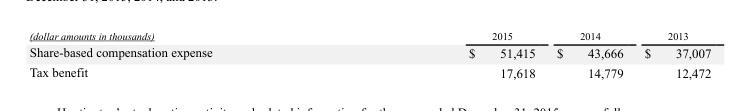table: (28, 29, 710, 79)
table column: (28, 29, 339, 79), (339, 29, 545, 79), (545, 29, 633, 79), (633, 29, 710, 79)
table column header: (28, 29, 710, 42)
table row: (28, 42, 710, 62), (28, 62, 710, 79), (28, 29, 710, 42)
